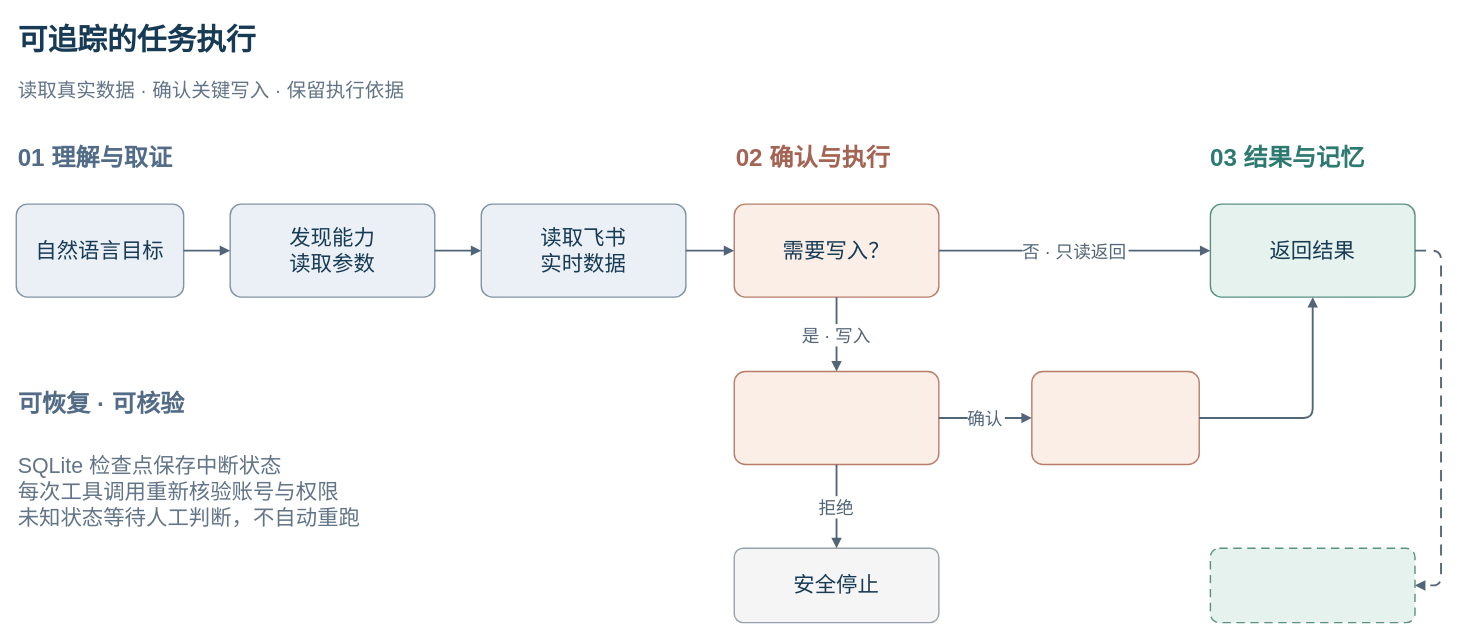
The diagram is 1466 pixels wide and 639 high, and some of its shapes have lost their labels. The centre of each missing label's shape, as x and y in pixels:
展示具体操作 等待确认 / 授权: [836,417]
工作流记忆 可选沉淀: [1312,585]
执行操作 记录收据: [1115,417]
